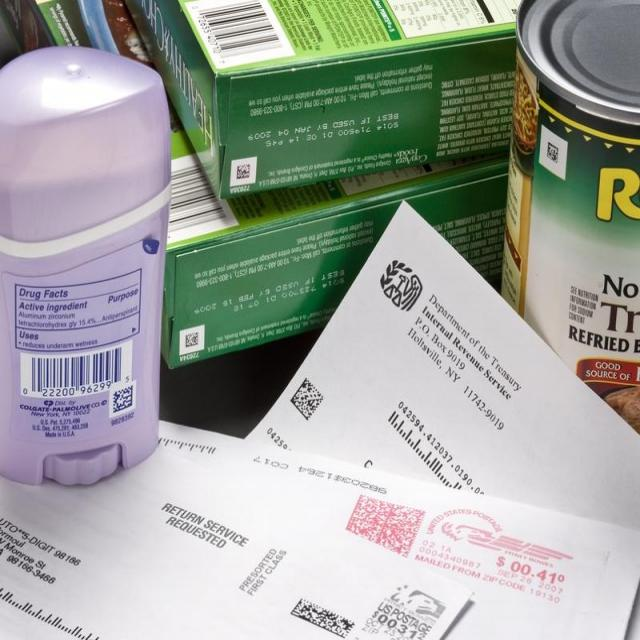datamatrix: (281, 370, 330, 427), (543, 135, 565, 175), (112, 385, 137, 414), (233, 157, 258, 186), (181, 325, 203, 354)
